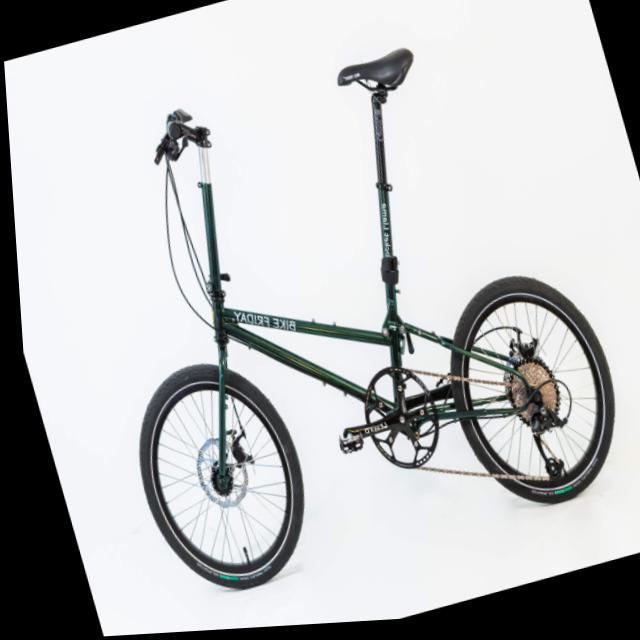folding-bike: (36, 16, 640, 617)
